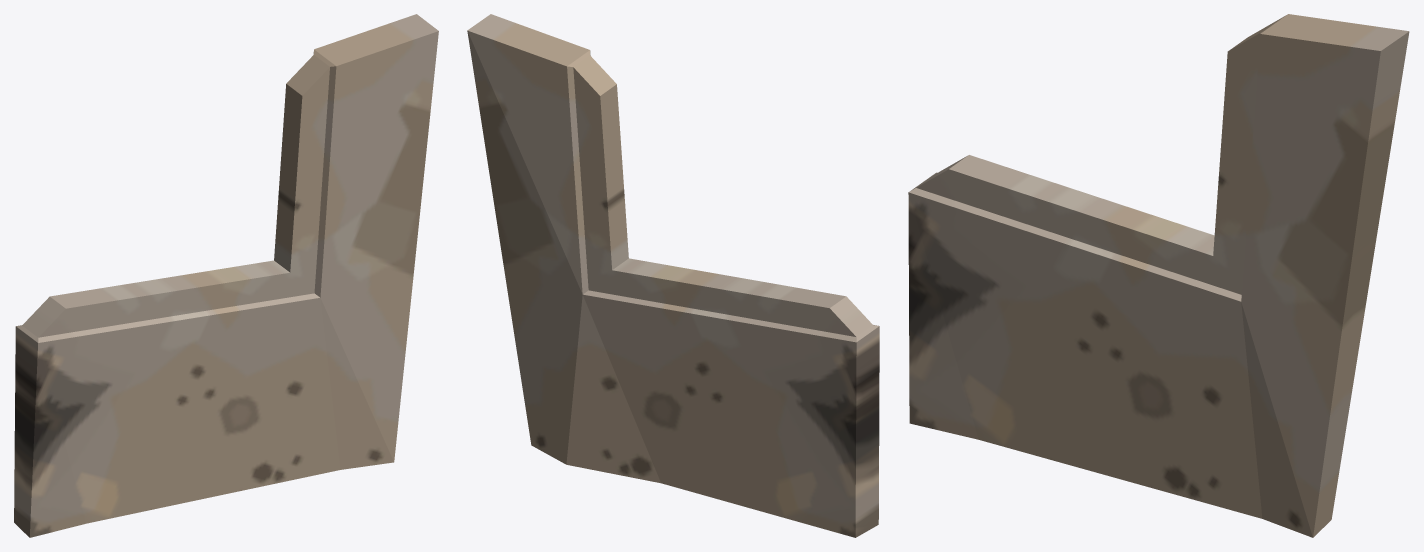
Rendered from SM_Bld_Village_05_Destroyed.glb.
3 views of the same model, side by side, from view 1: azimuth 30°, elevation 25°; view 2: azimuth 150°, elevation 25°; view 3: azimuth 330°, elevation 25° (orthographic). The views are drawn at different scales.
Parts seen in each view (by area): view 1: SM_Bld_Village_05_Destroyed; view 2: SM_Bld_Village_05_Destroyed; view 3: SM_Bld_Village_05_Destroyed.
Part boxes in pixels (<box>): SM_Bld_Village_05_Destroyed: <box>14,14,438,537</box>; SM_Bld_Village_05_Destroyed: <box>467,14,879,537</box>; SM_Bld_Village_05_Destroyed: <box>908,14,1409,537</box>.
Size of the model in its own units: 2.5 by 2.47 by 0.3598.
1 material, 1 textured.
